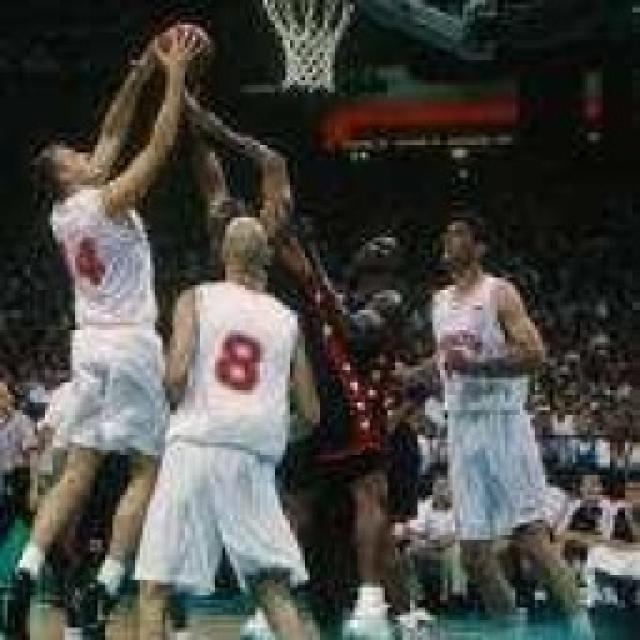basketball: (155, 18, 216, 79)
